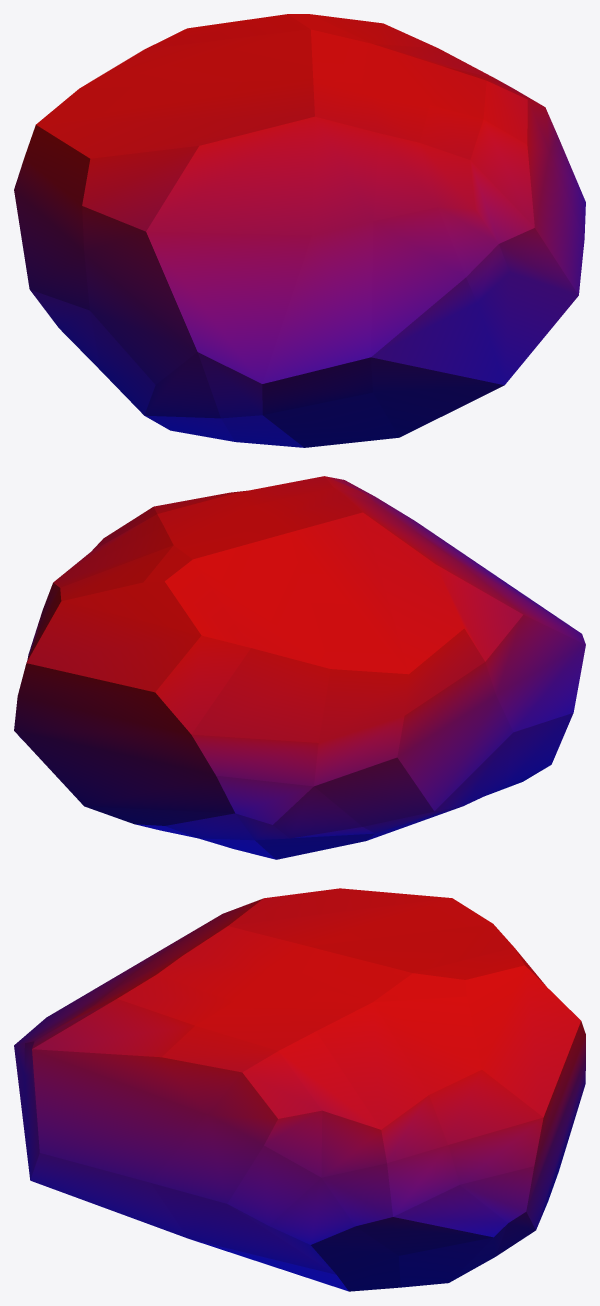
File: SM_Rock_01.fbx
The picture shows the model from 3 angles, top to bottom: view 1: azimuth 30°, elevation 25°; view 2: azimuth 150°, elevation 25°; view 3: azimuth 270°, elevation 25°; orthographic projection. The views are drawn at different scales.
Parts seen in each view (by area): view 1: rock_geo; view 2: rock_geo; view 3: rock_geo.
Boxes of the visible parts, bbox=[...] form: rock_geo: bbox=[14, 14, 585, 447]; rock_geo: bbox=[14, 476, 585, 859]; rock_geo: bbox=[14, 888, 585, 1291].
Bounding box in the file's own units: 114 × 66.14 × 122.
